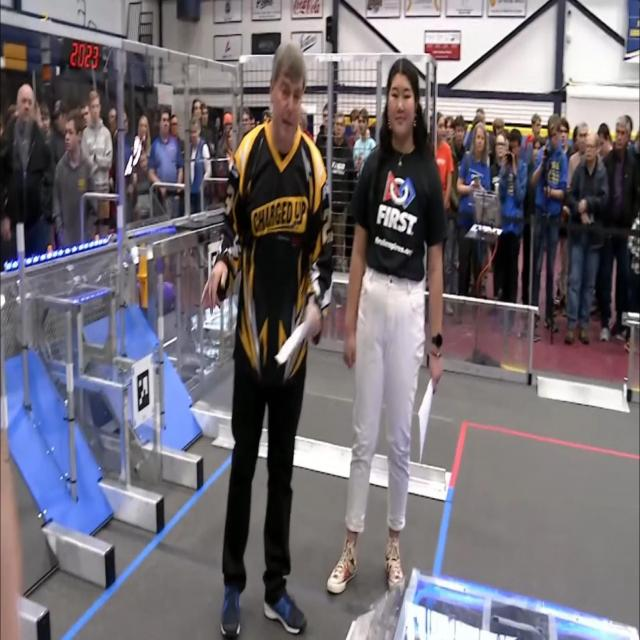frc_cone: (138, 279, 150, 311), (138, 256, 149, 280)
frc_cube: (162, 277, 175, 311), (155, 248, 164, 274)
